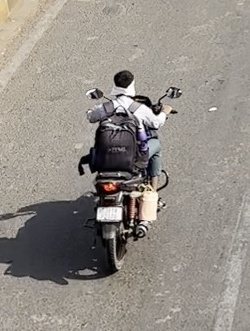BikeWithRider: (72, 66, 185, 274)
NoHelmet: (107, 67, 139, 98)
